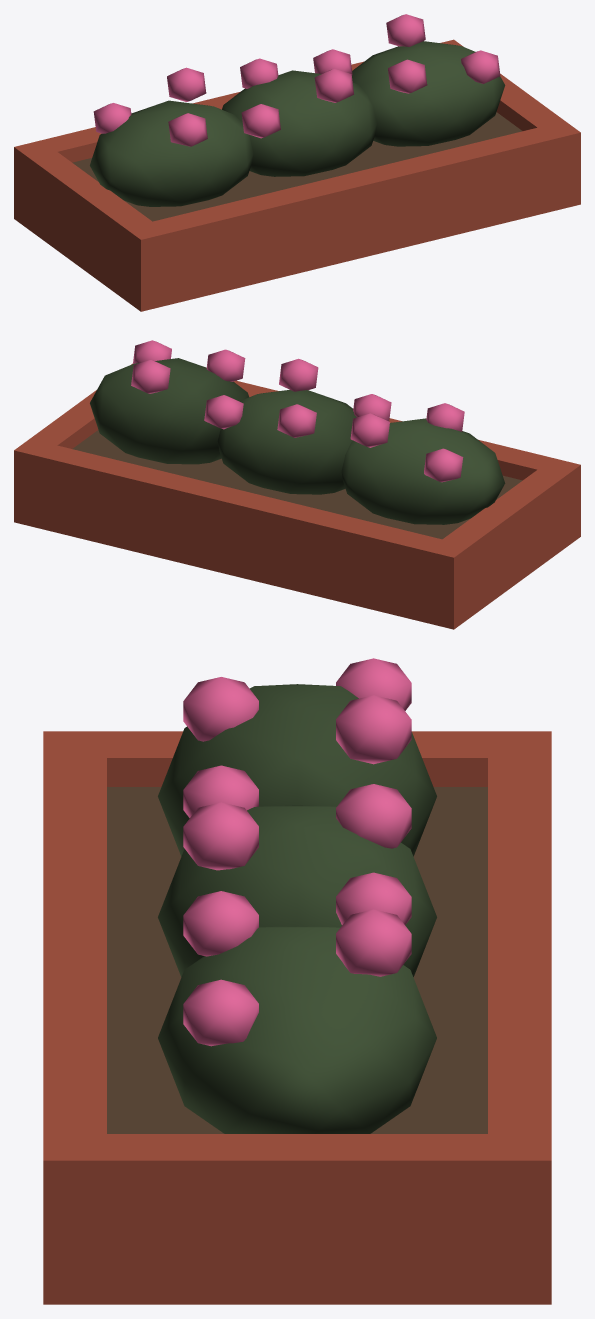
Rendered from scatter4.fbx.
The picture shows the model from 3 angles, top to bottom: view 1: azimuth 30°, elevation 25°; view 2: azimuth 150°, elevation 25°; view 3: azimuth 270°, elevation 25°; orthographic projection. The views are drawn at different scales.
Visible parts, largest first — view 1: a2000/600/scatter4; view 2: a2000/600/scatter4; view 3: a2000/600/scatter4.
Part boxes in pixels (<box>): a2000/600/scatter4: <box>14,14,580,311</box>; a2000/600/scatter4: <box>14,340,580,629</box>; a2000/600/scatter4: <box>43,658,551,1304</box>.
Size of the model in its own units: 1.6 by 0.53 by 0.8.
